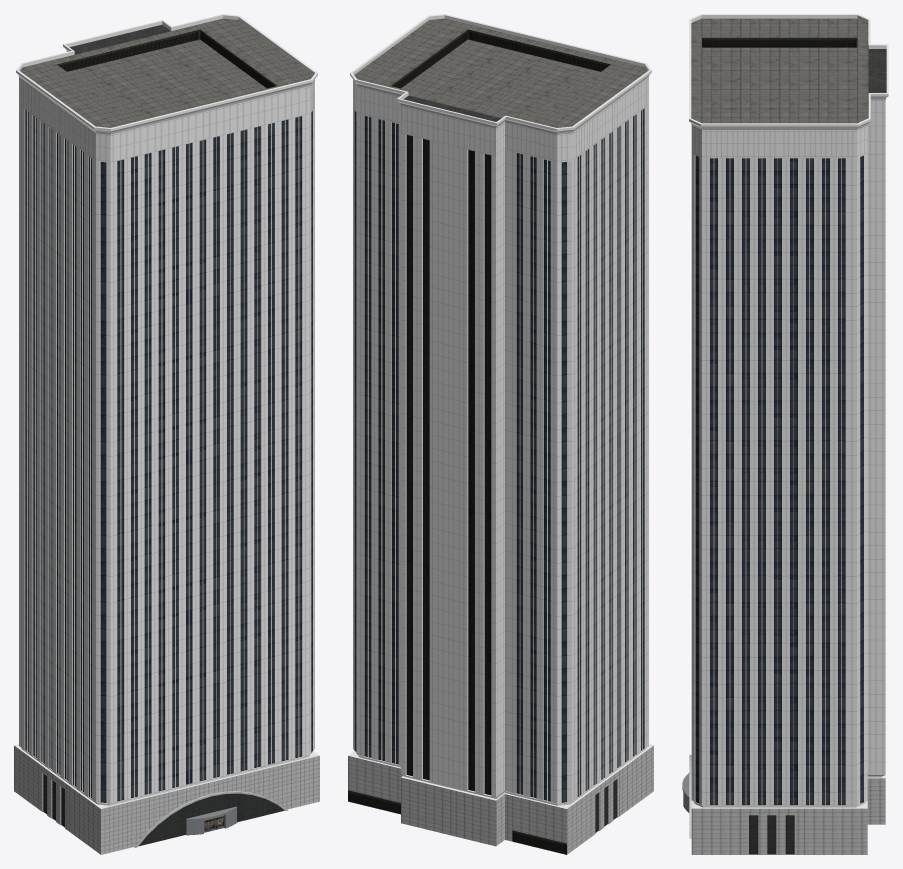
The model's file is torre_picasso_madrid.glb.
3 renders of one model, left to right at view 1: azimuth 30°, elevation 25°; view 2: azimuth 150°, elevation 25°; view 3: azimuth 270°, elevation 25°, orthographic.
Visible parts, largest first — view 1: torrepicasso; view 2: torrepicasso; view 3: torrepicasso.
Part boxes in pixels (x1=…): torrepicasso: x1=14, y1=14, x2=319, y2=854; torrepicasso: x1=348, y1=14, x2=653, y2=854; torrepicasso: x1=682, y1=14, x2=888, y2=854.
Size of the model in its own units: 5115 by 15821 by 4043.
1 material, 1 textured.
